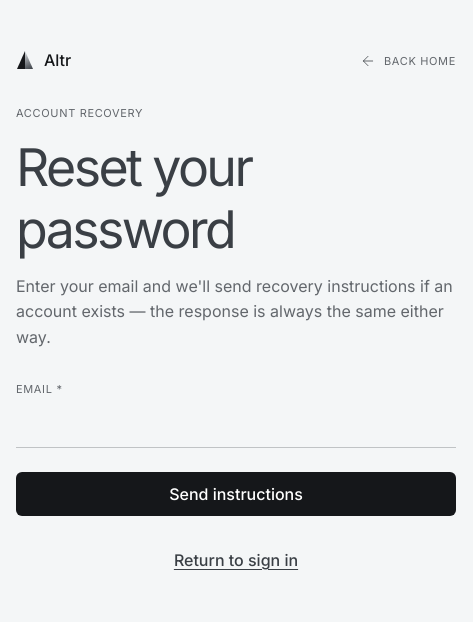
Test: ForgotPasswordForm › shows a rate-limited error instead of the neutral confirmation for the one distinguishable 429 case
The width and height of the screenshot is (473, 622).
Type "real@example.com" into the field labelled "Email *".
click(236, 426); type("real@example.com")  # box [16,404,456,448]
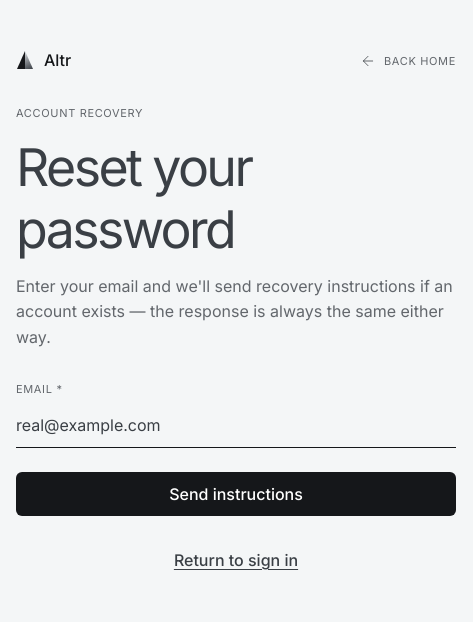
Click the button "Send instructions".
click(236, 494)  # box [16,472,456,516]
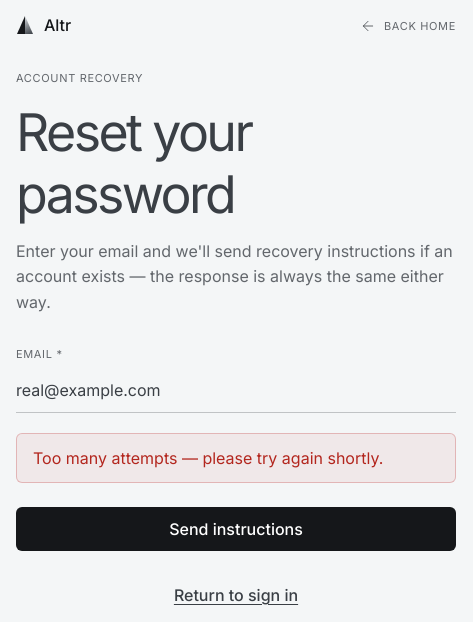
Check: the message shows "Too many attempts", box [33,448,383,468]
